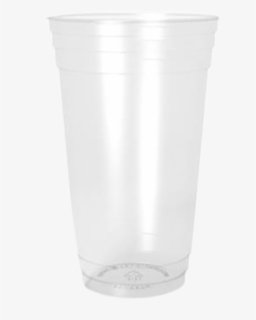plastic_glass: (44, 6, 235, 303)
